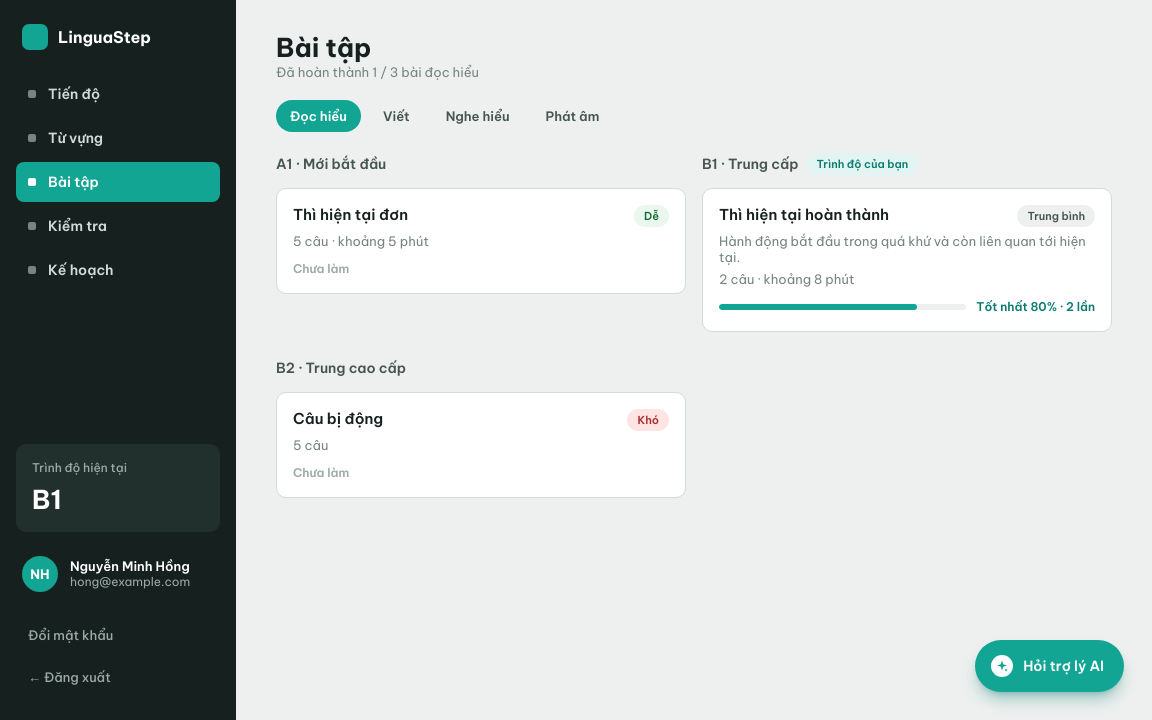
Test: AI assistant › says when the AI cannot answer and sends the same question again
Click the button "Hỏi trợ lý AI".
click(1050, 666)  # box [975,640,1124,692]
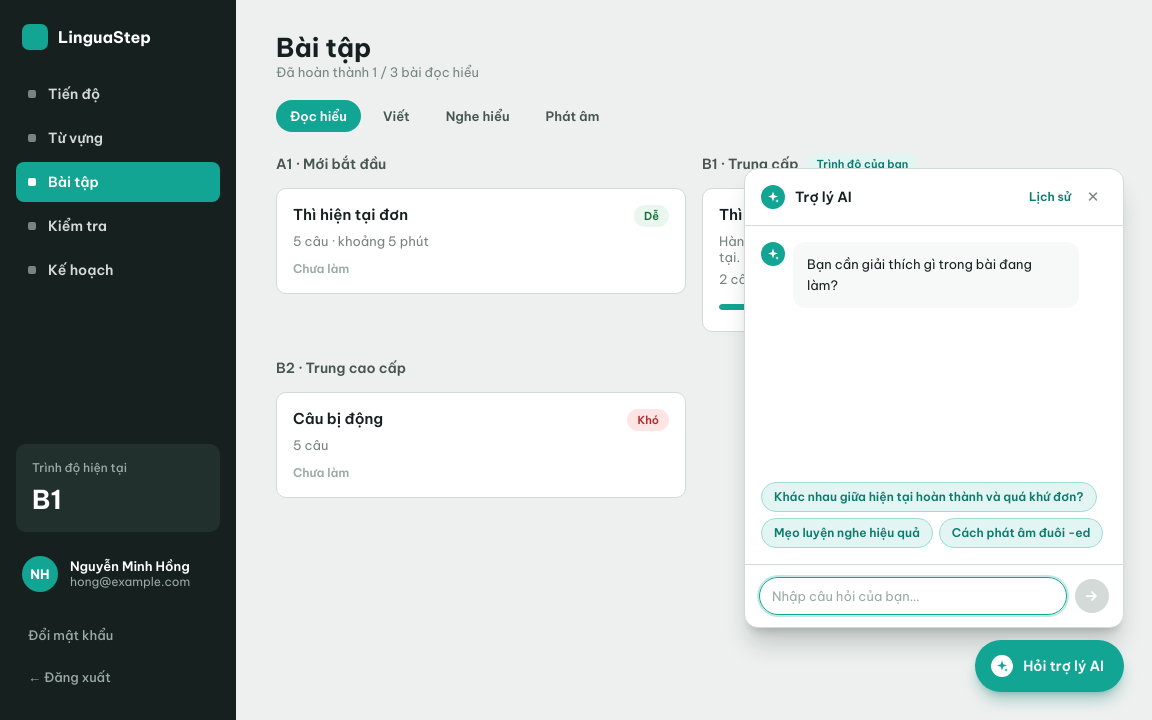
Type "Mẹo luyện nghe?" into the field named "Câu hỏi cho trợ lý AI".
click(913, 596); type("Mẹo luyện nghe?")  # box [759,577,1067,615]
Then press Enter
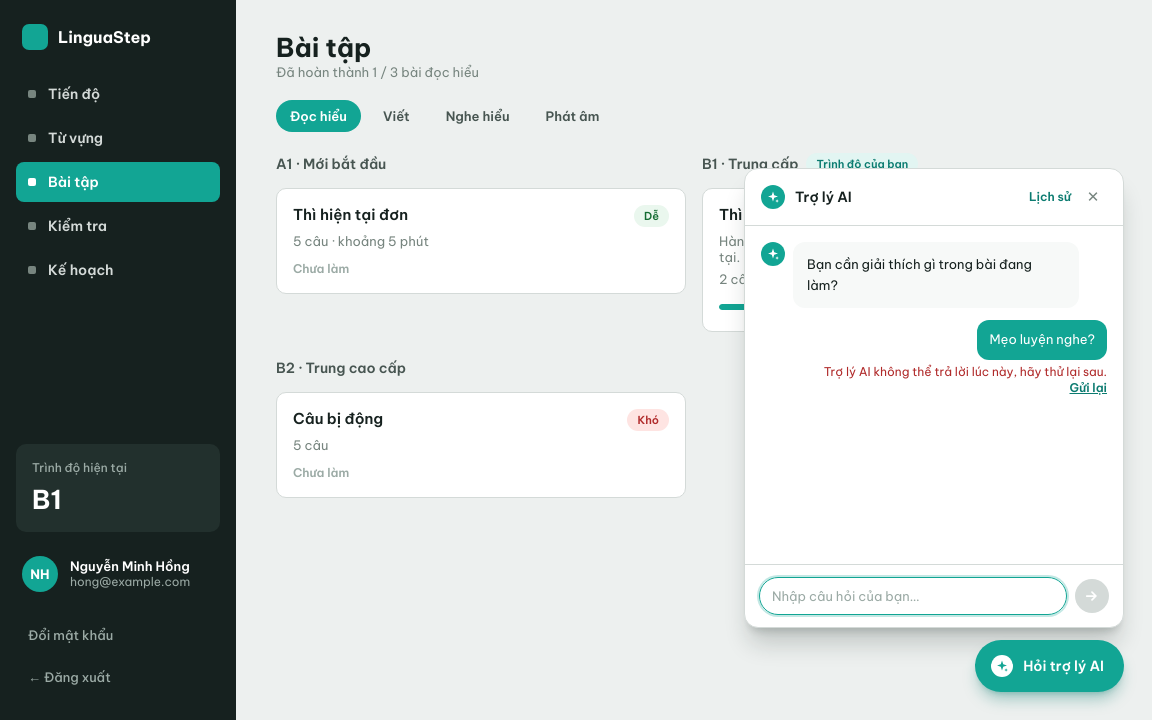
Expected: the message shows "Trợ lý AI không thể trả lời lúc này, hãy thử lại sau.", [824,364,1107,379]
Click the button "Gửi lại".
click(1088, 388)  # box [1070,380,1107,396]
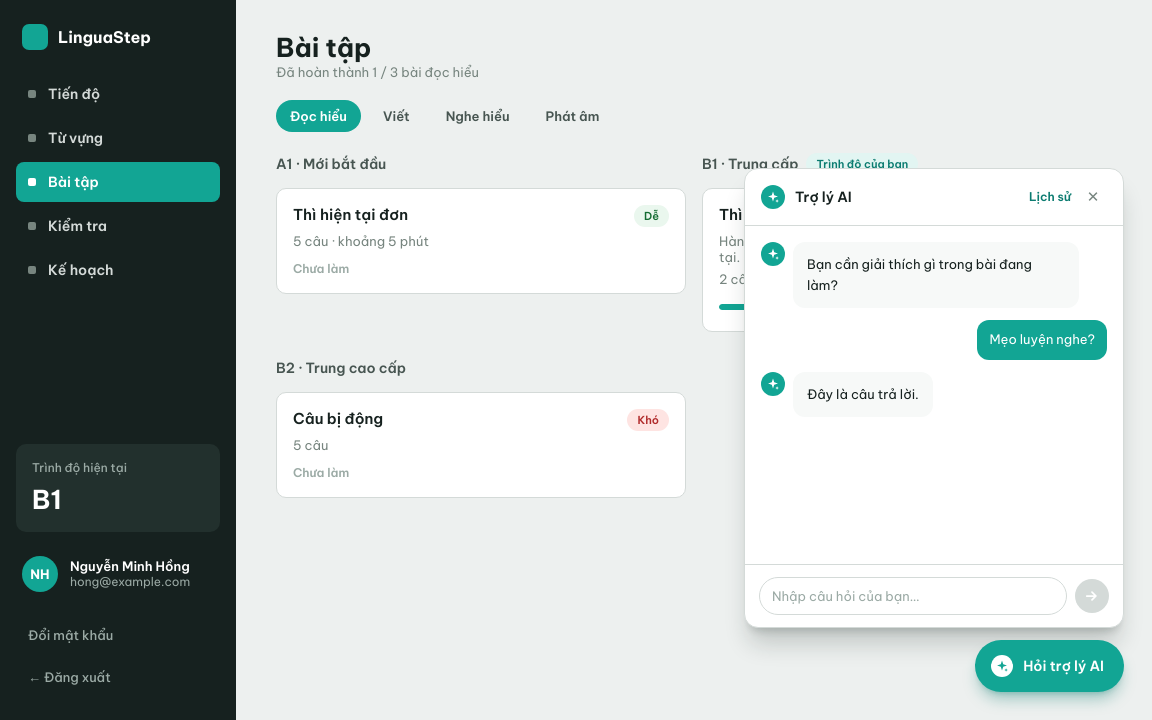
Expected: the text "Mẹo luyện nghe?" is shown once, [977,320,1107,360]
Expected: the text "Đây là câu trả lời." is shown, [807,384,919,405]
Expected: the message "Trợ lý AI không thể trả lời lúc này, hãy thử lại sau. Gửi lại" is gone
